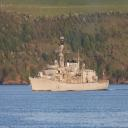Fragata: (29, 38, 111, 95)
